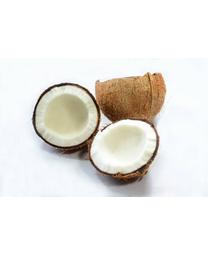coconut: (31, 81, 102, 153), (86, 117, 160, 183), (94, 73, 167, 127)
